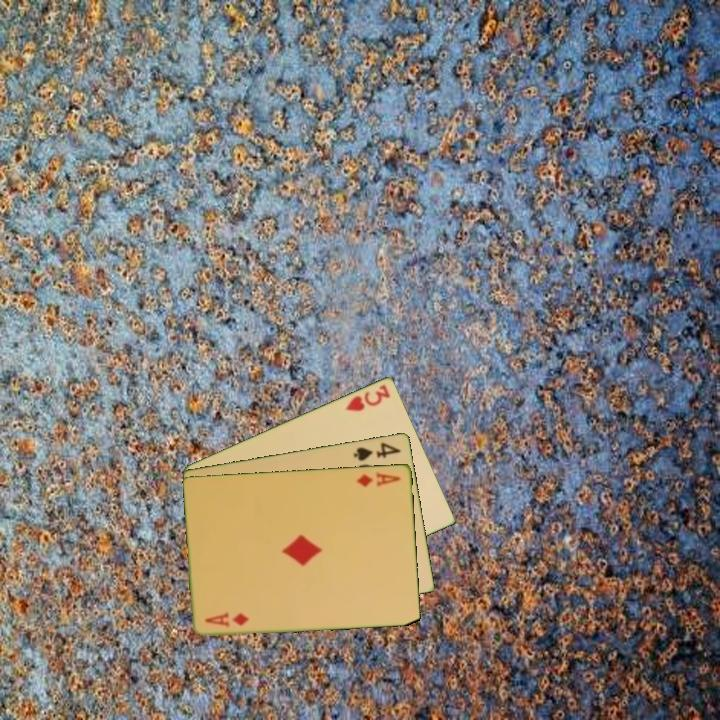3h: (342, 381, 393, 414)
4s: (350, 439, 404, 463)
Ad: (202, 609, 252, 630), (353, 469, 403, 489)
